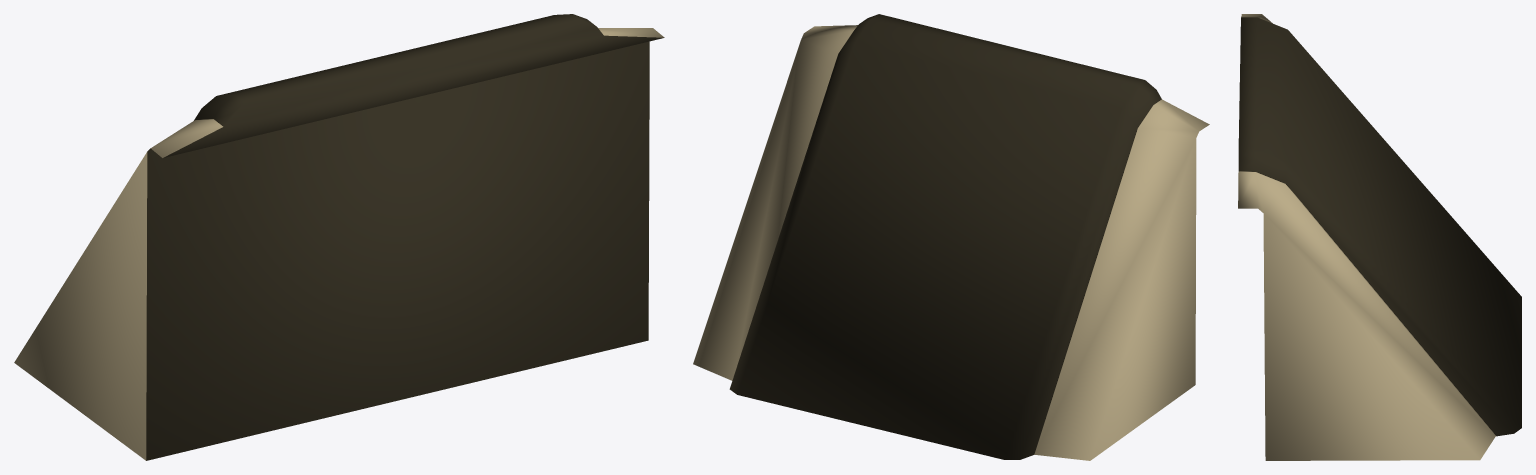
File: Road_RampShort.fbx
The picture shows the model from 3 angles, left to right: view 1: azimuth 30°, elevation 25°; view 2: azimuth 150°, elevation 25°; view 3: azimuth 270°, elevation 25°; orthographic projection. The views are drawn at different scales.
Visible parts, largest first — view 1: RoadRamp_Short; view 2: RoadRamp_Short; view 3: RoadRamp_Short.
Boxes of the visible parts, x1,y1,x2,y2 form: RoadRamp_Short: [14, 14, 664, 460]; RoadRamp_Short: [693, 14, 1209, 460]; RoadRamp_Short: [1238, 14, 1521, 460].
Size of the model in its own units: 0.3007 by 0.2014 by 0.1848.
